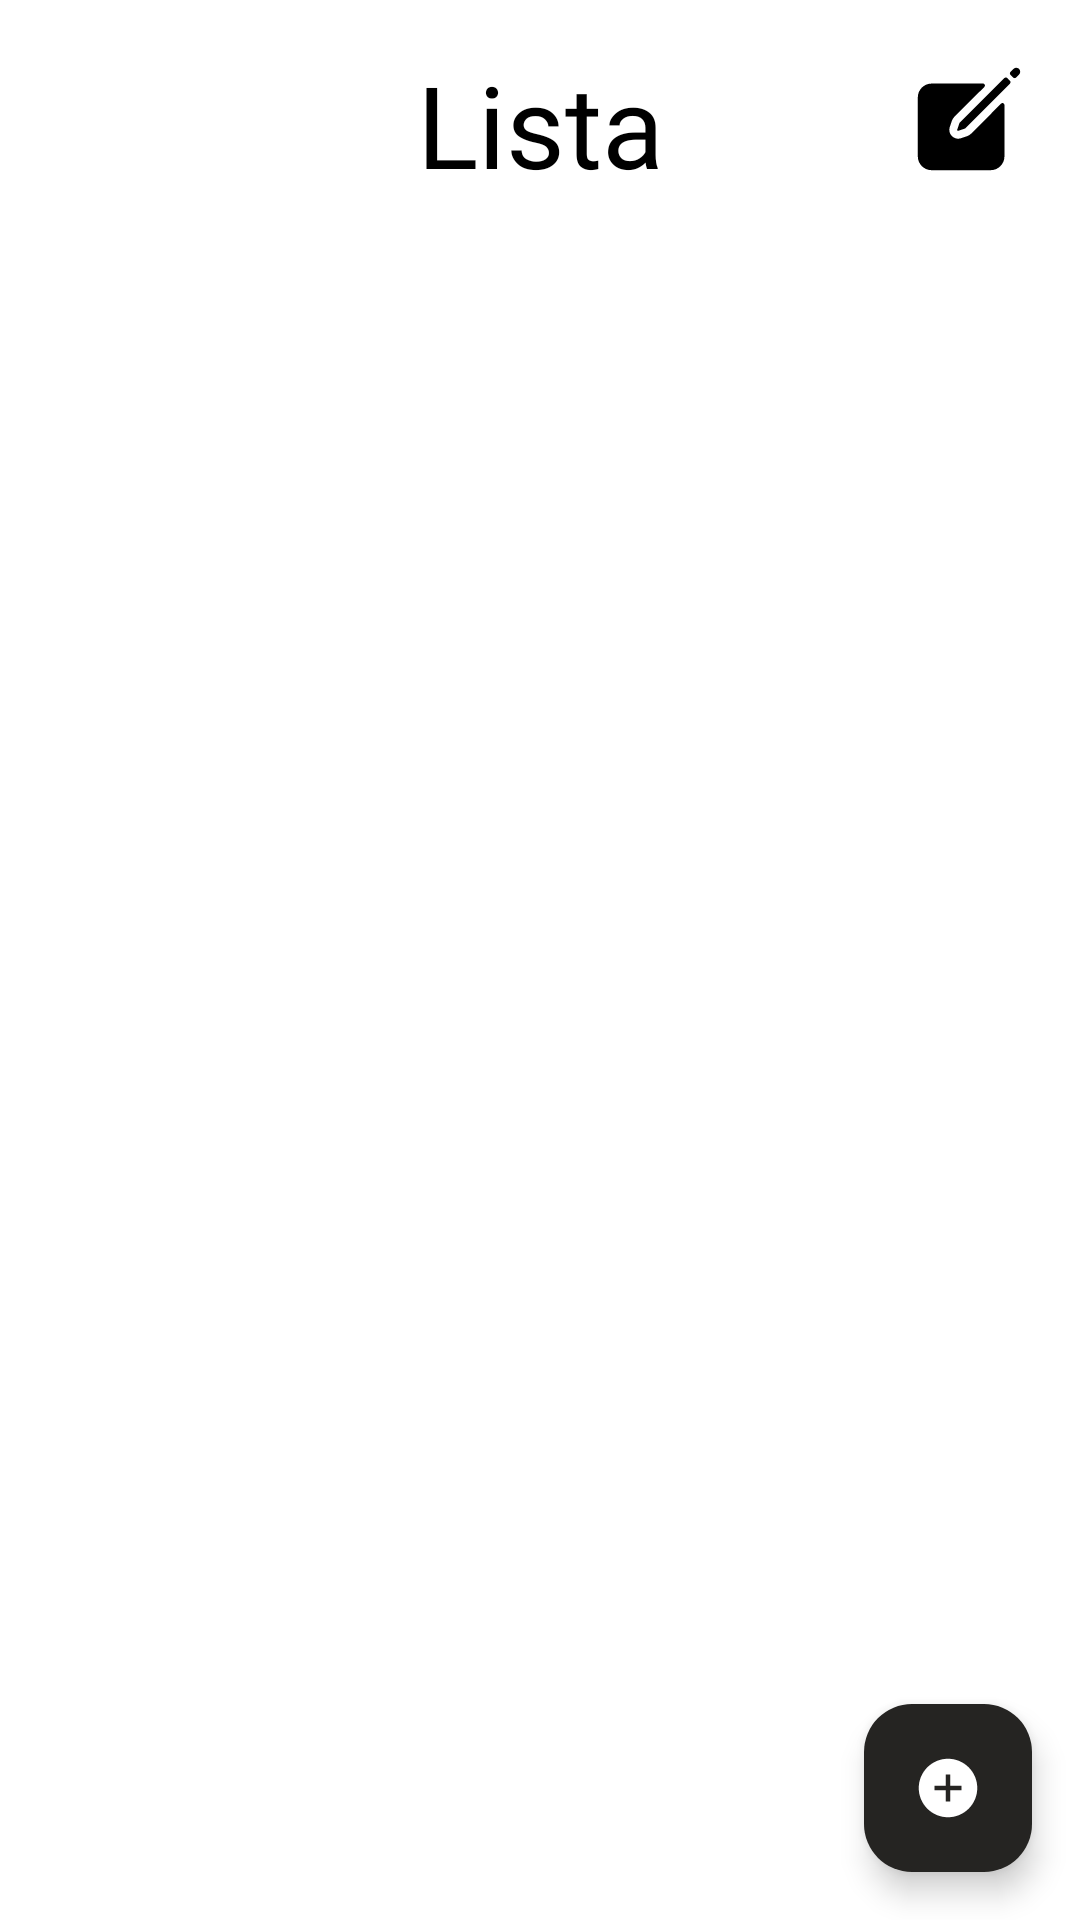

Screen size 1080w x 1920h. Icon name, then its center in pixels as (x=x, y=y):
add: (x=948, y=1788)
edit: (x=969, y=119)
